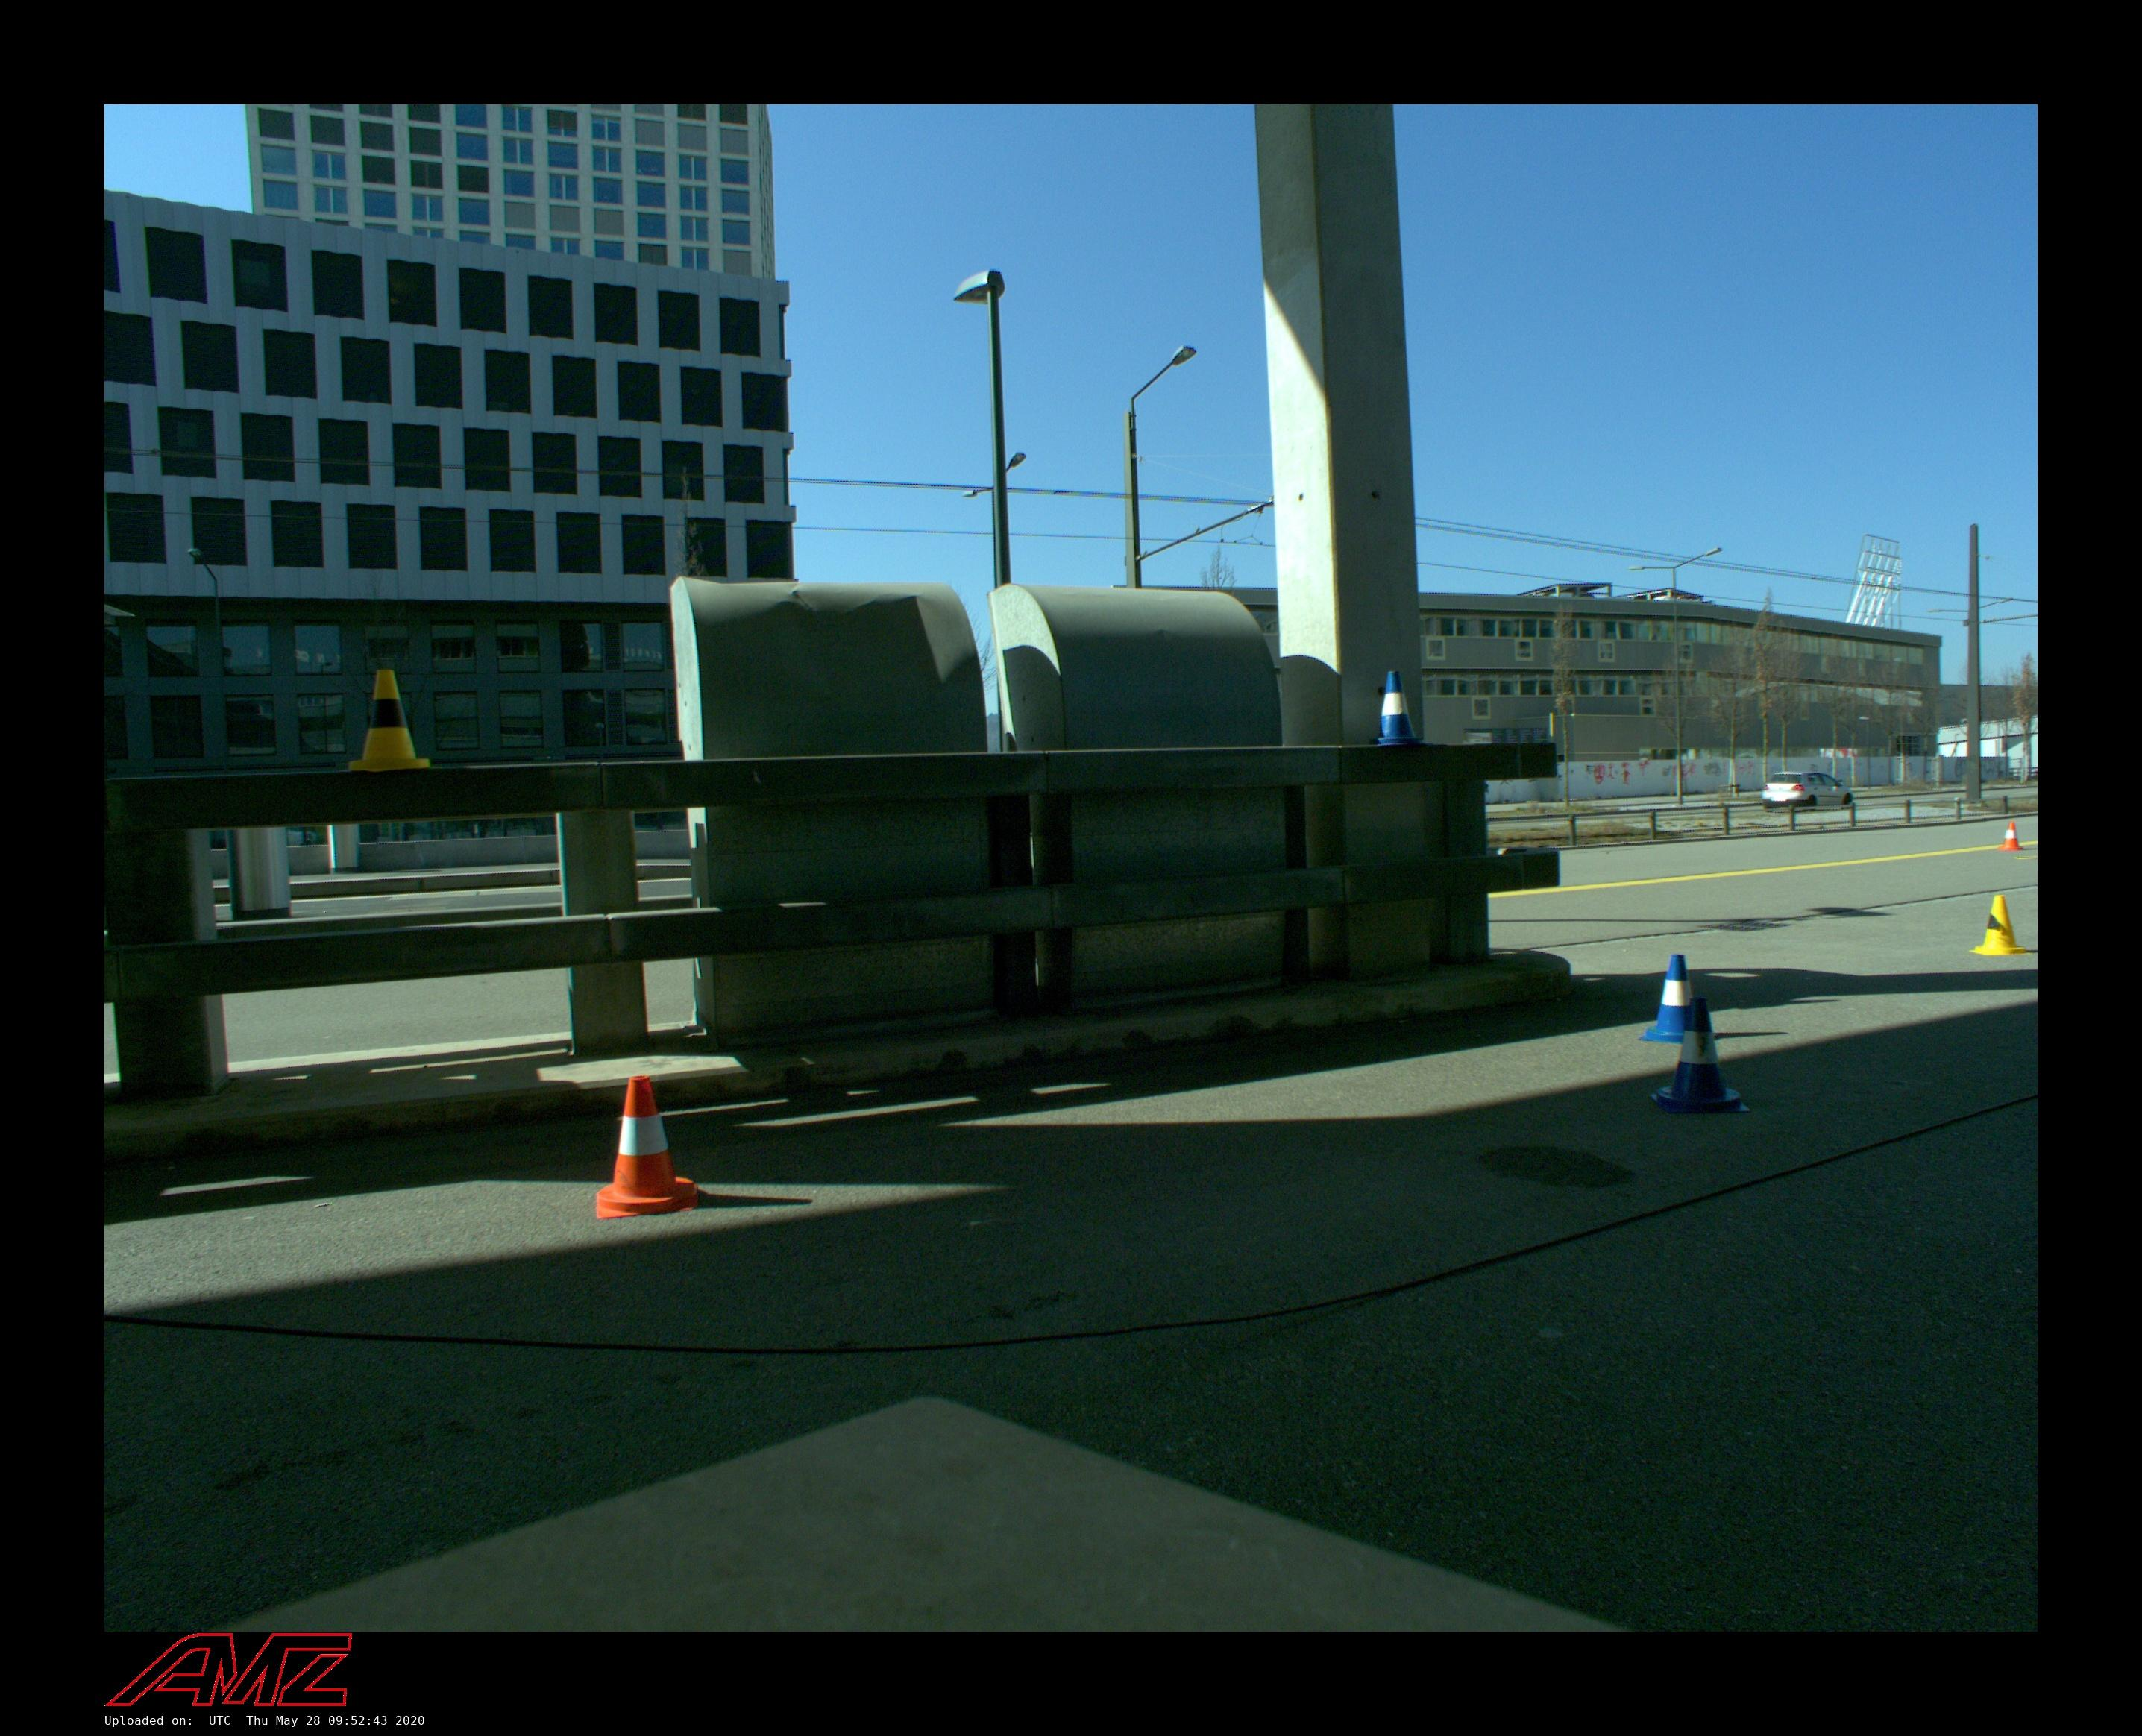blue_cone: (1650, 997, 1750, 1116), (1641, 954, 1711, 1043)
orange_cone: (595, 1075, 702, 1220), (1998, 822, 2023, 852)
yellow_cone: (1968, 895, 2032, 955)
